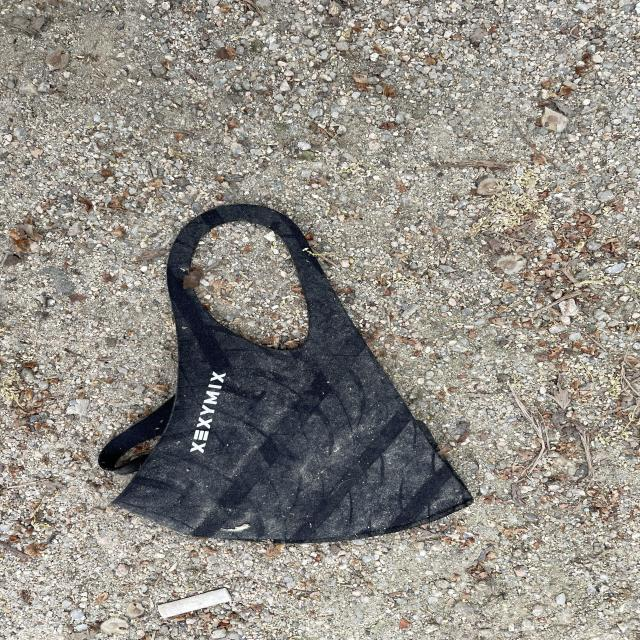khautrang: (96, 204, 475, 546)
